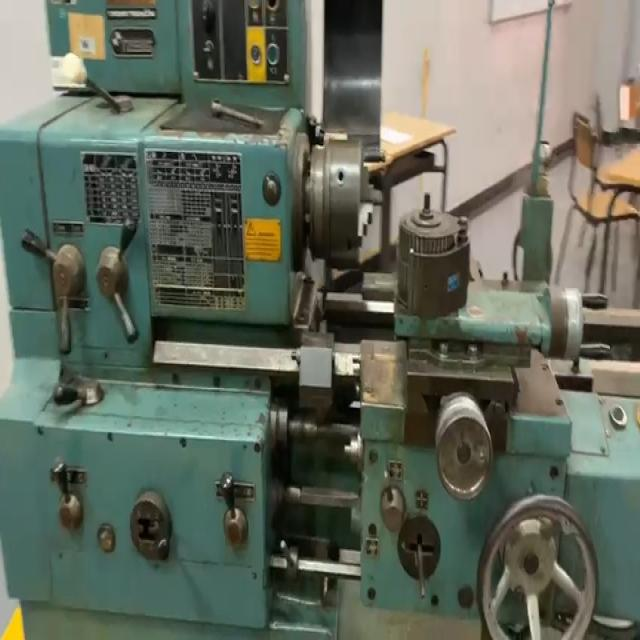tour parallele: (0, 0, 640, 640)
